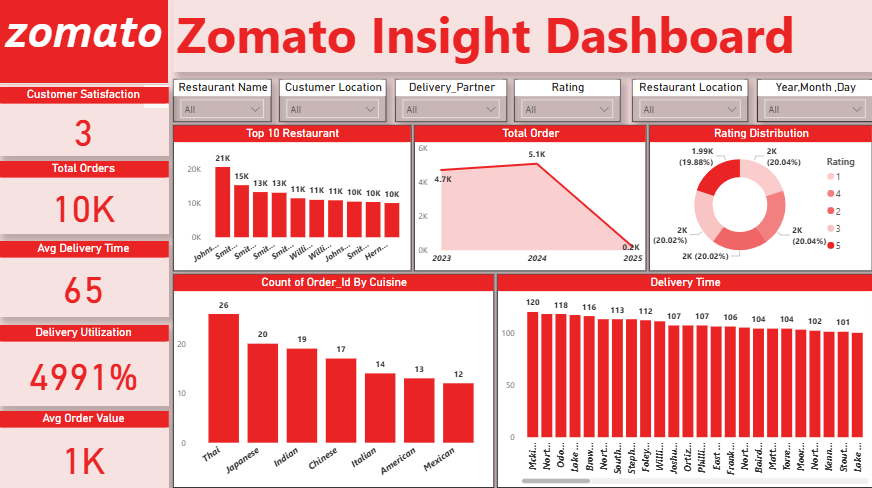

This screenshot's page, from the dashboard's own definition file:
{"tool":"powerbi","page":{"name":"Page 1","canvas":[1280,720],"ordinal":0},"visuals":[{"type":"textbox","box":[0,0,250,128.6],"z":0},{"type":"card","title":"Customer Satisfaction","fields":{"Values":["Avg(Sheet1.Rating)"]},"box":[0,132.9,250,101.4],"z":1000},{"type":"card","title":"Total Orders","fields":{"Values":["CountNonNull(Sheet1.Order_ID)"]},"box":[0,241.4,250,107.1],"z":2000},{"type":"card","title":"Avg Delivery Time","fields":{"Values":["Avg(Sheet1.Delivery_Time_Minutes)"]},"box":[0,358.6,250,111.4],"z":3000},{"type":"card","title":"Delivery Utilization ","fields":{"Values":["Sheet1.Delivery_utilization (%)"]},"box":[0,481.4,250,118.6],"z":4000},{"type":"card","title":"Avg Order Value","fields":{"Values":["Avg(Sheet1.Order_Amount)"]},"box":[0,607.1,250,112.9],"z":5000},{"type":"textbox","box":[255.7,0,1024.3,111.4],"z":6000},{"type":"slicer","title":"Restaurant Name","fields":{"Values":["Sheet1.Restaurant_Name"]},"box":[255.7,121.4,144.3,62.9],"z":7000},{"type":"slicer","title":"Custumer Location","fields":{"Values":["Sheet1.Customer_Location"]},"box":[411.4,121.4,157.1,62.9],"z":8000},{"type":"slicer","title":"Delivery_Partner","fields":{"Values":["Sheet1.Delivery_Partner"]},"box":[581.4,121.4,164.3,62.9],"z":9000},{"type":"slicer","title":"      Rating","fields":{"Values":["Sheet1.Rating"]},"box":[755.7,121.4,155.7,62.9],"z":10000},{"type":"slicer","title":"Restaurant Location","fields":{"Values":["Sheet1.Restaurant_Location"]},"box":[927.1,121.4,170,62.9],"z":11000},{"type":"slicer","title":"Year,Month ,Day","fields":{"Values":["Sheet1.Order_Date.Variation.Date Hierarchy.Year","Sheet1.Order_Date.Variation.Date Hierarchy.Month","Sheet1.Order_Date.Variation.Date Hierarchy.Day"]},"box":[1110,121.4,170,62.9],"z":12000},{"type":"columnChart","title":"Top 10 Restaurant","fields":{"Y":["Sum(Sheet1.Order_Amount)"],"Category":["Sheet1.Restaurant_Name"]},"box":[255.7,188.6,348.6,214.3],"z":13000},{"type":"lineChart","title":"Total Order ","fields":{"Y":["CountNonNull(Sheet1.Order_ID)"],"Category":["Sheet1.Order_Date.Variation.Date Hierarchy.Year"]},"box":[608.6,188.6,340,214.3],"z":14000},{"type":"donutChart","title":"Rating Distribution","fields":{"Category":["Sheet1.Rating"],"Y":["CountNonNull(Sheet1.Order_ID)"]},"box":[952.9,188.6,327.1,214.3],"z":15000},{"type":"columnChart","title":"Count of Order_Id By Cuisine","fields":{"Category":["Sheet1.Cuisine"],"Y":["CountNonNull(Sheet1.Order_ID)"]},"box":[255.7,407.1,470,312.9],"z":16000},{"type":"columnChart","title":"Delivery Time","fields":{"Category":["Sheet1.Customer_Location"],"Y":["Sum(Sheet1.Delivery_Time_Minutes)"]},"box":[730,407.1,550,312.9],"z":17000}]}

Visuals, with their boxes in screenshot pixels (x1, y1, x2, y2), scaled from the page's 1280x720 canvas onto the 872x488 screenshot:
textbox: region(0, 0, 170, 87)
"Customer Satisfaction" card: region(0, 90, 170, 159)
"Total Orders" card: region(0, 164, 170, 236)
"Avg Delivery Time" card: region(0, 243, 170, 319)
"Delivery Utilization " card: region(0, 326, 170, 407)
"Avg Order Value" card: region(0, 411, 170, 487)
textbox: region(174, 0, 871, 76)
"Restaurant Name" slicer: region(174, 82, 272, 125)
"Custumer Location" slicer: region(280, 82, 387, 125)
"Delivery_Partner" slicer: region(396, 82, 508, 125)
"      Rating" slicer: region(515, 82, 621, 125)
"Restaurant Location" slicer: region(632, 82, 747, 125)
"Year,Month ,Day" slicer: region(756, 82, 871, 125)
"Top 10 Restaurant" columnChart: region(174, 128, 412, 273)
"Total Order " lineChart: region(415, 128, 646, 273)
"Rating Distribution" donutChart: region(649, 128, 871, 273)
"Count of Order_Id By Cuisine" columnChart: region(174, 276, 494, 487)
"Delivery Time" columnChart: region(497, 276, 871, 487)
